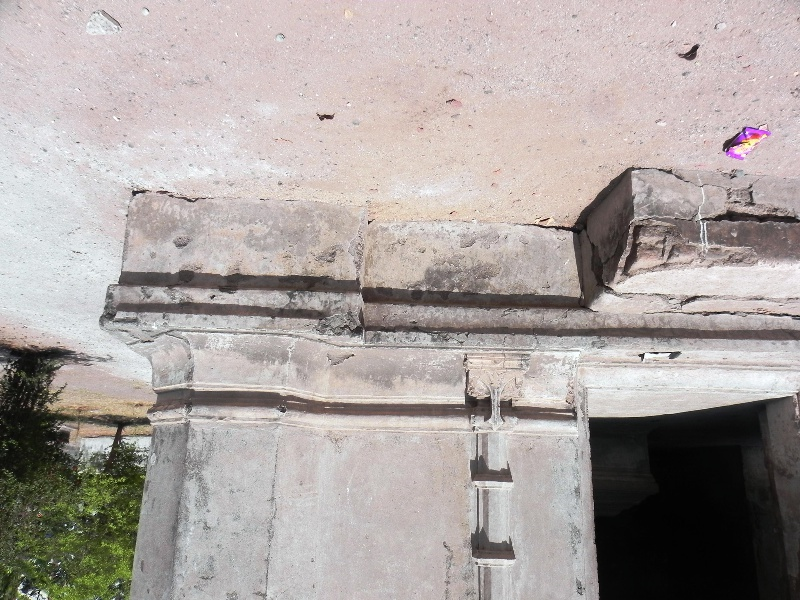Exposed Bricks: (629, 221, 738, 275)
Spalling: (313, 305, 370, 346)
